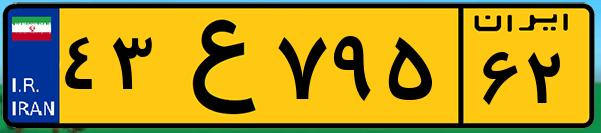2: (525, 38, 570, 115)
3: (110, 28, 158, 98)
4: (57, 26, 110, 100)
5: (385, 28, 445, 110)
6: (475, 38, 525, 113)
7: (270, 28, 330, 110)
9: (330, 28, 385, 110)
ع: (158, 12, 270, 120)
